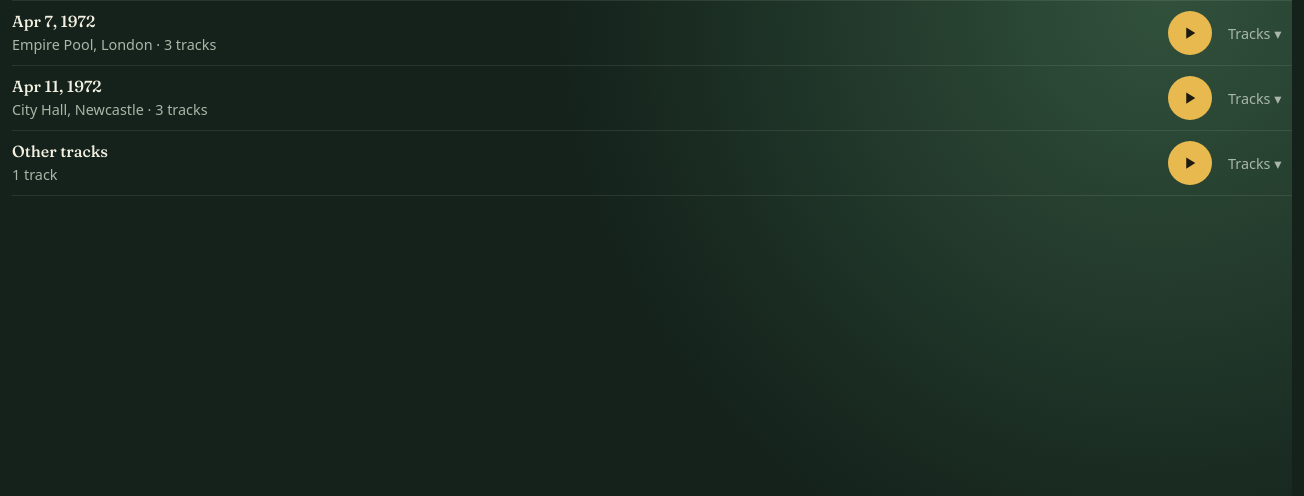
Scenario: a multi-show record's tracklist › plays a night's tape as that night's queue
Click the button named "Play Apr 11, 1972".
click(1190, 98)  # box [1168, 76, 1212, 120]
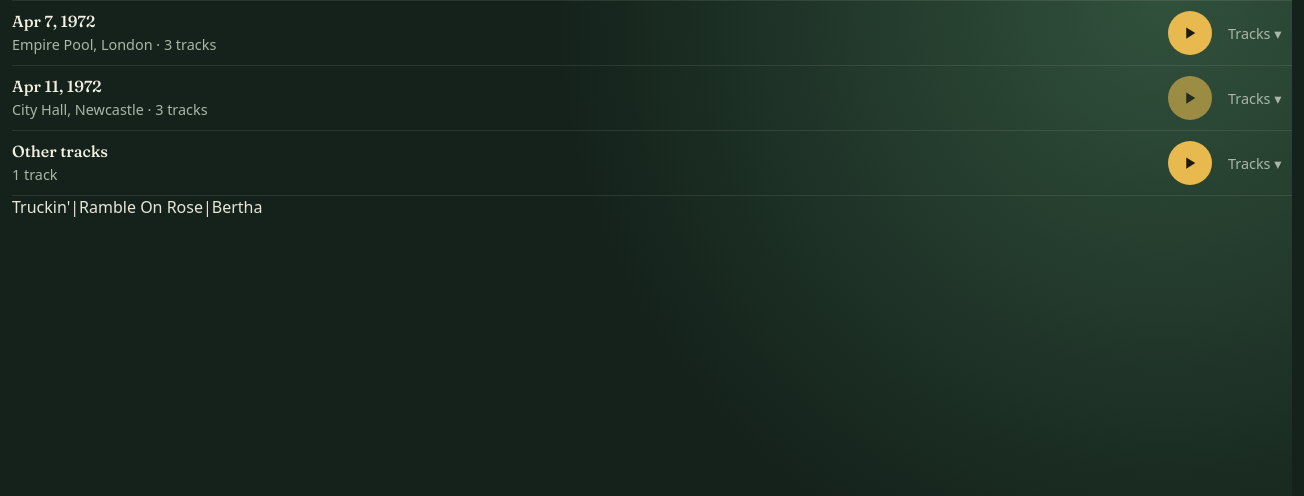
Expected: the text with test id "queue" reads "Truckin'|Ramble On Rose|Bertha", [12, 196, 262, 218]
Click the button named "Play Apr 7, 1972".
click(1190, 33)  # box [1168, 11, 1212, 55]
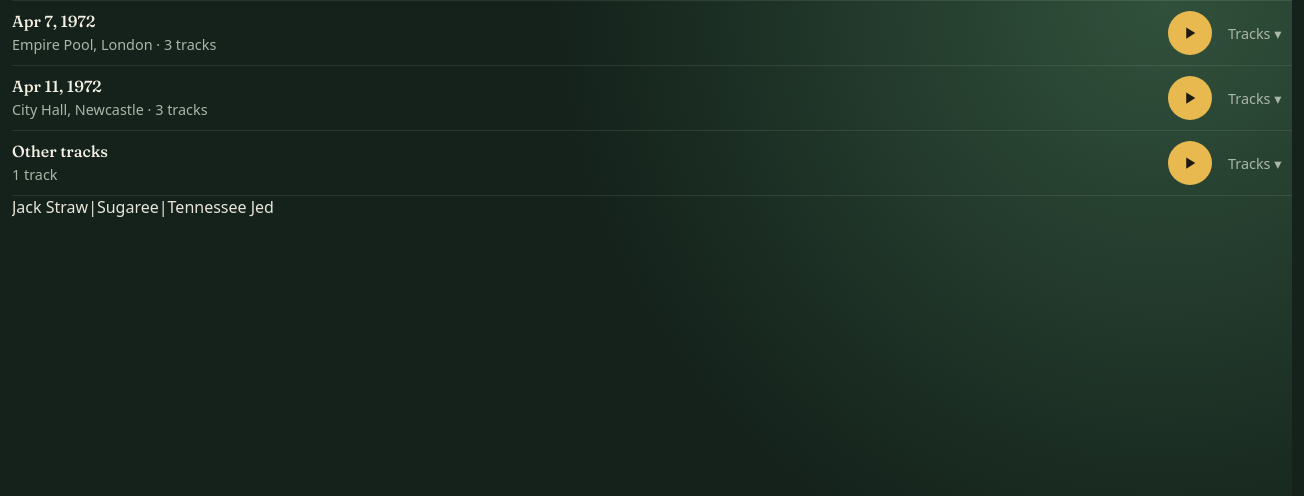
Expected: the text with test id "queue" reads "Jack Straw|Sugaree|Tennessee Jed", [12, 196, 274, 218]
